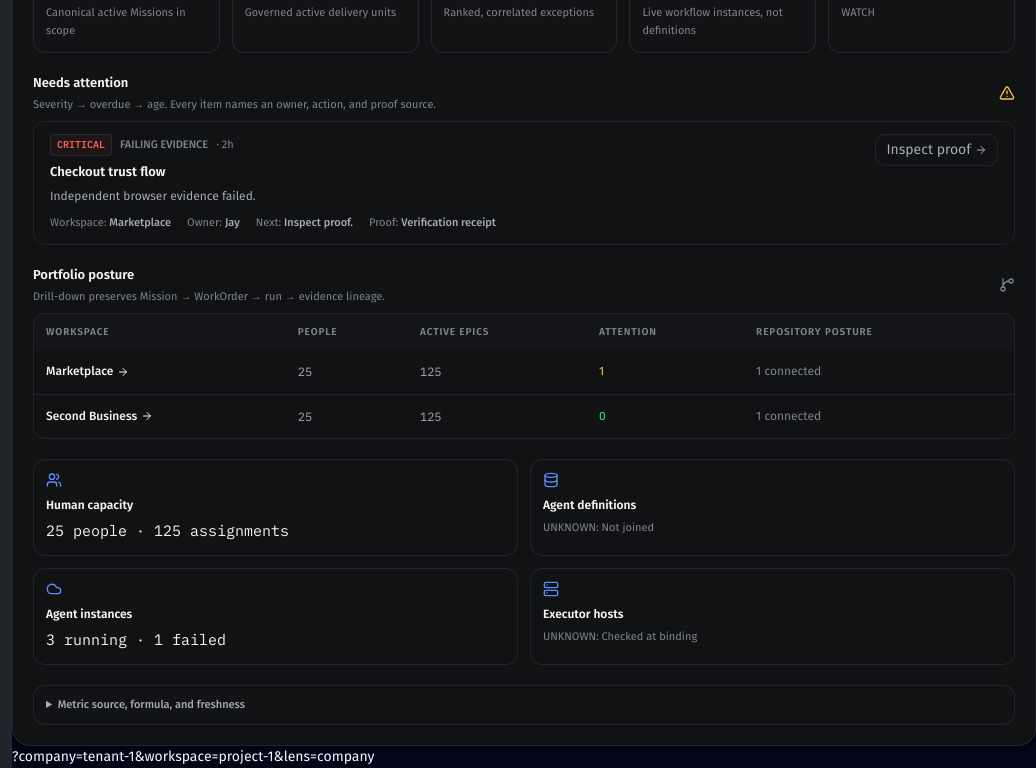
Scenario: OperatingControlPlane › keeps Company read-oriented and enters the owning workspace before a mutation
This screenshot has width=1036, height=768.
(page scrolled)
Click the button "Second Business".
click(100, 416)  # box [46, 407, 153, 426]
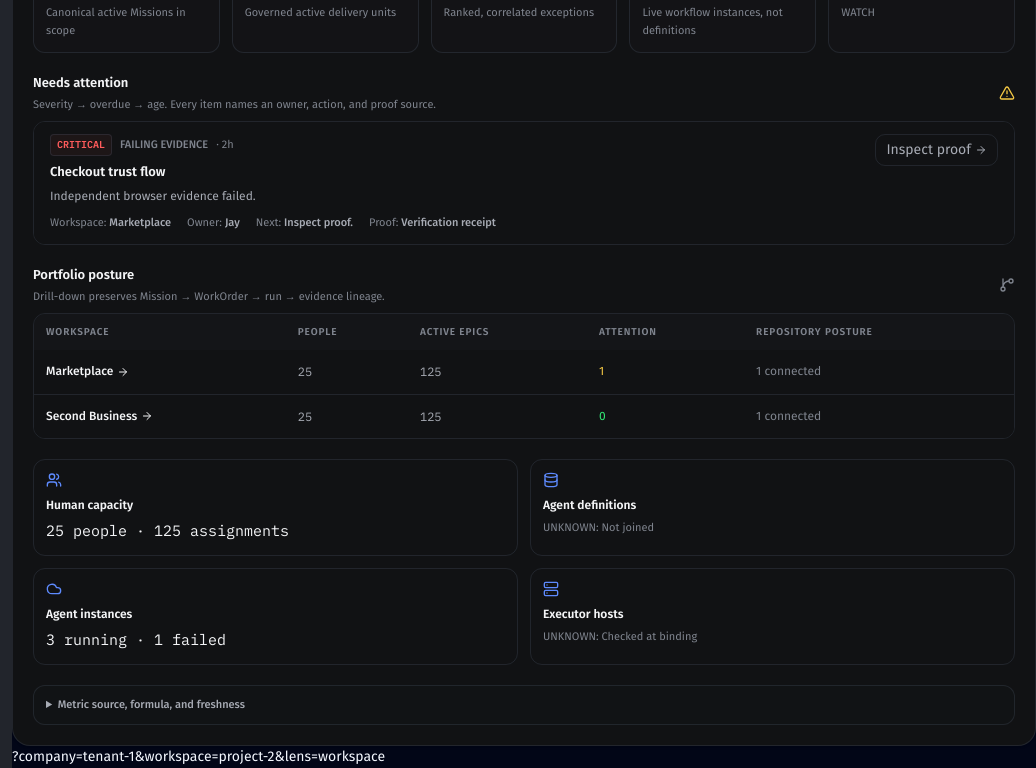
Check: the text with test id "location" shows "workspace=project-2", box [12, 748, 385, 765]
Check: the text with test id "location" shows "lens=workspace", box [12, 748, 385, 765]
